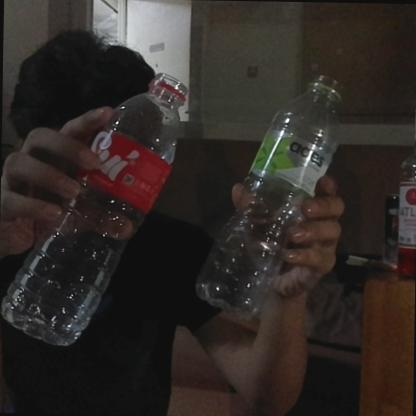plastic_bottles: (7, 69, 190, 335), (198, 64, 346, 324)
